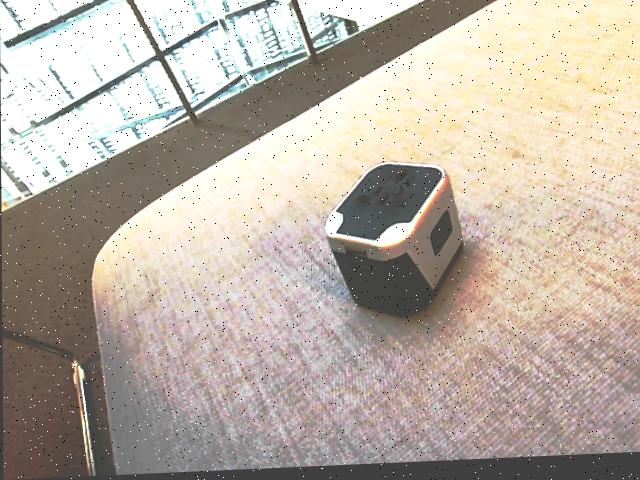adapter: (324, 161, 463, 324)
